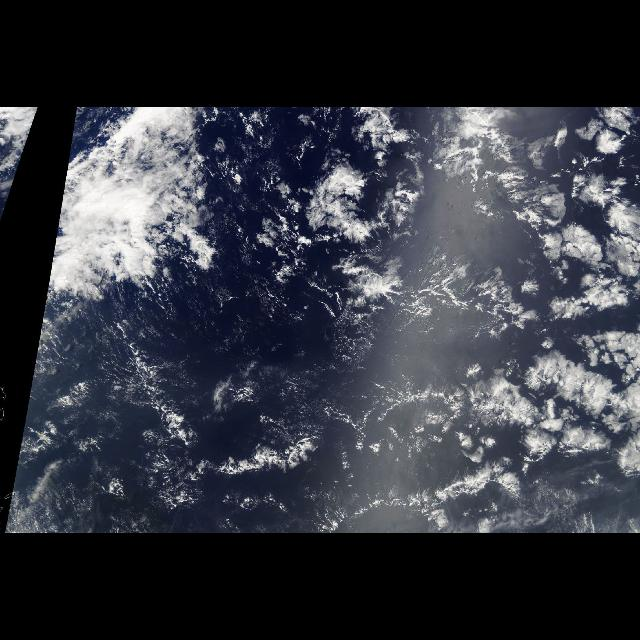Flower: (296, 113, 640, 533)
